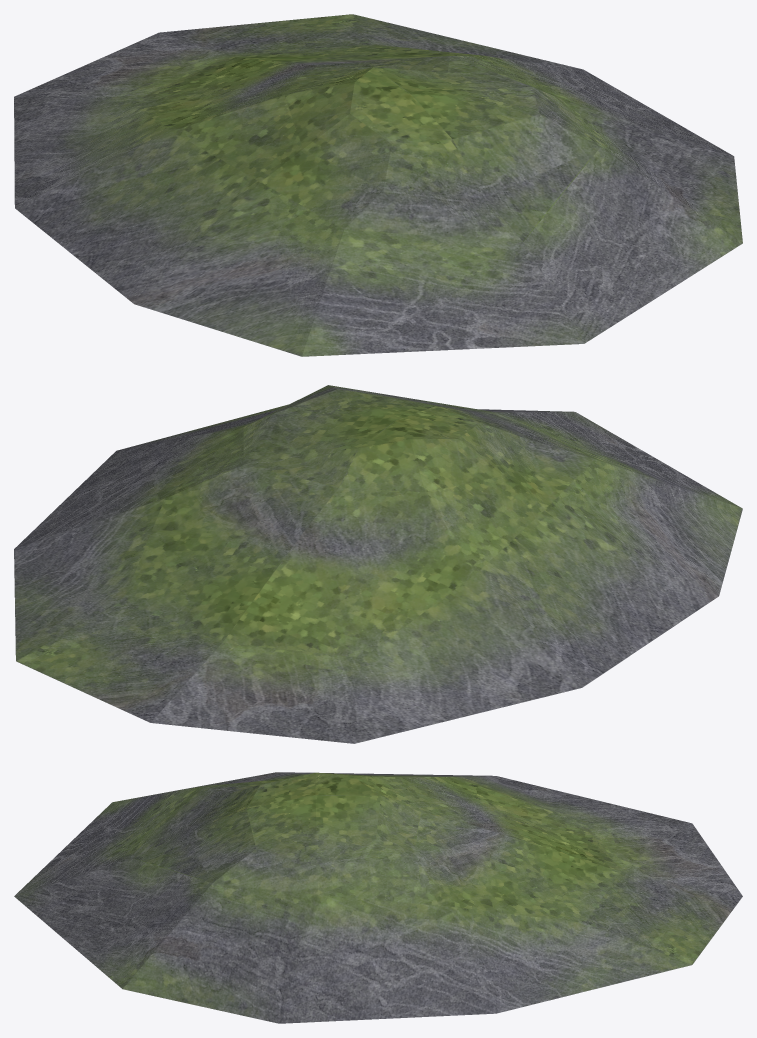
The model's file is 3DObj_LandV2_3.fbx.
3 views of the same model, one above another, from view 1: azimuth 30°, elevation 25°; view 2: azimuth 150°, elevation 25°; view 3: azimuth 270°, elevation 25° (orthographic). The views are drawn at different scales.
Parts seen in each view (by area): view 1: 3DObj_Land_3.001; view 2: 3DObj_Land_3.001; view 3: 3DObj_Land_3.001.
Boxes of the visible parts, bbox=[...] form: 3DObj_Land_3.001: bbox=[14, 14, 742, 356]; 3DObj_Land_3.001: bbox=[14, 385, 742, 743]; 3DObj_Land_3.001: bbox=[14, 772, 742, 1023].
Size of the model in its own units: 553 by 110 by 677.
Materials: 1 (1 with a texture image).
